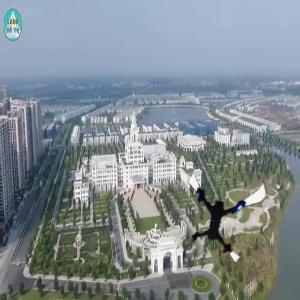drone: (174, 166, 264, 256)
